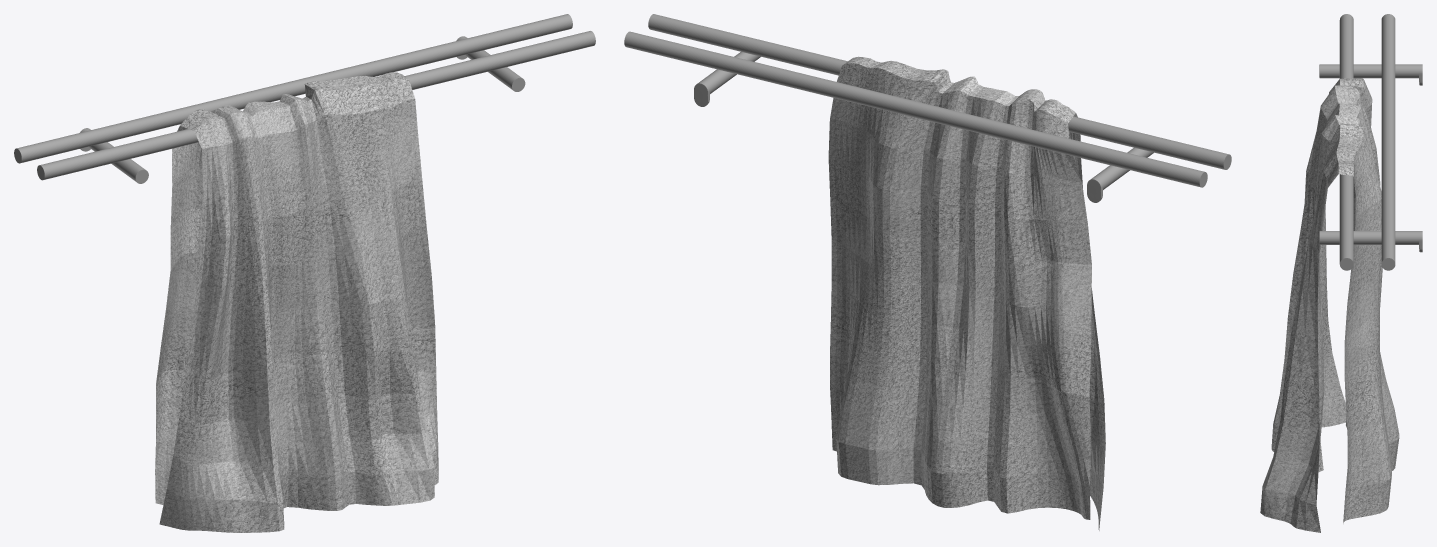
Rendered from com_bath3.obj.
3 views of the same model, side by side, from view 1: azimuth 30°, elevation 25°; view 2: azimuth 150°, elevation 25°; view 3: azimuth 270°, elevation 25° (orthographic). The views are drawn at different scales.
Visible parts, largest first — view 1: A_toalla_blanc_Mesh, A_estanteria_metal_Cylinder.003; view 2: A_toalla_blanc_Mesh, A_estanteria_metal_Cylinder.003; view 3: A_toalla_blanc_Mesh, A_estanteria_metal_Cylinder.003.
Boxes of the visible parts, <box> form: A_toalla_blanc_Mesh: <box>155,72,438,532</box>; A_estanteria_metal_Cylinder.003: <box>14,14,595,183</box>; A_toalla_blanc_Mesh: <box>828,56,1105,530</box>; A_estanteria_metal_Cylinder.003: <box>624,14,1231,202</box>; A_toalla_blanc_Mesh: <box>1260,78,1399,532</box>; A_estanteria_metal_Cylinder.003: <box>1319,14,1422,270</box>.
Size of the model in its own units: 2.98 by 2.08 by 0.8377.
Materials: 2 (1 with a texture image).
